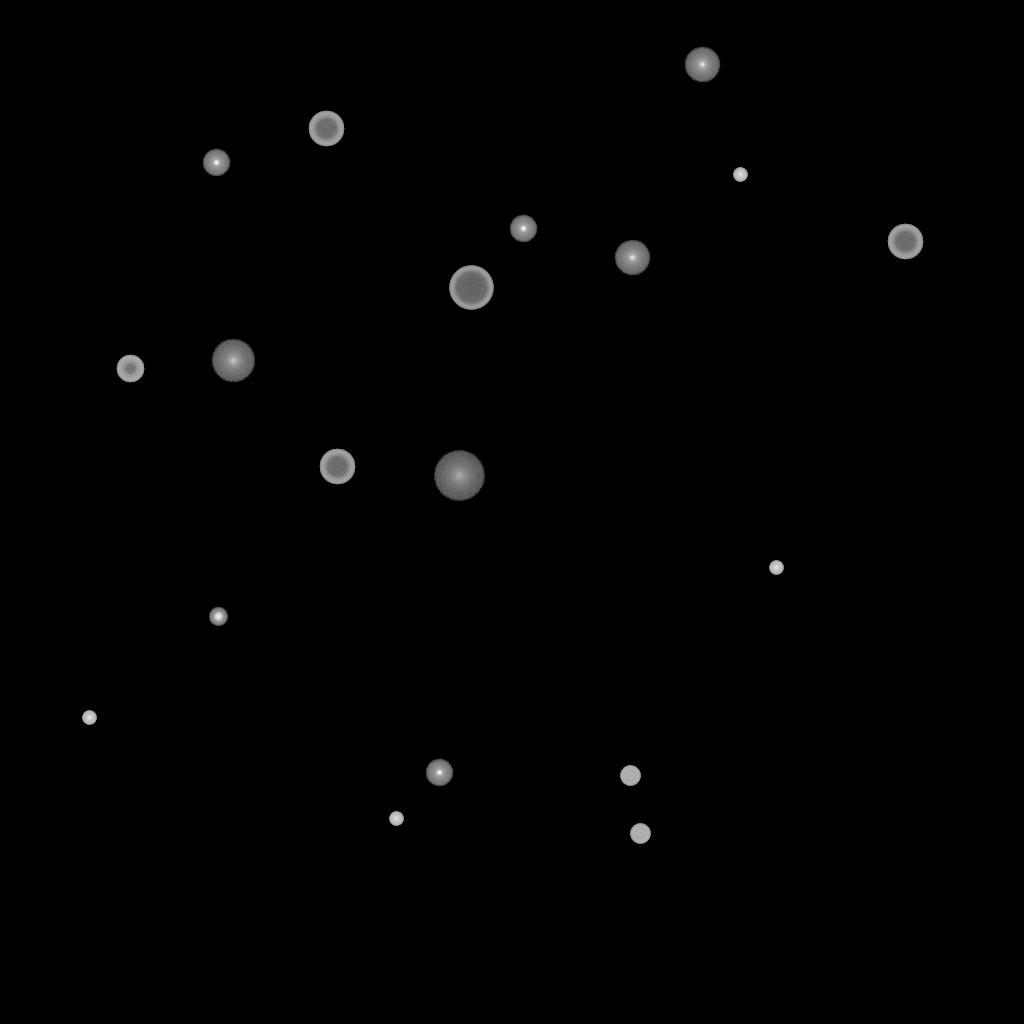depth:-10: (425, 759, 453, 787), (509, 215, 537, 243), (202, 149, 230, 177)
depth:-20: (209, 608, 227, 626)
depth:-30: (389, 812, 403, 826), (769, 561, 783, 575), (82, 711, 96, 725), (733, 168, 747, 182)
depth:-40: (630, 824, 650, 844), (620, 766, 640, 786)
depth:-50: (116, 355, 144, 383)
depth:-60: (887, 224, 923, 260), (319, 449, 355, 485), (308, 111, 344, 147)
depth:-70: (449, 266, 493, 310)
depth:0: (614, 240, 650, 276), (684, 47, 720, 83)
depth:10: (211, 339, 255, 383)
depth:20: (433, 451, 485, 501)
